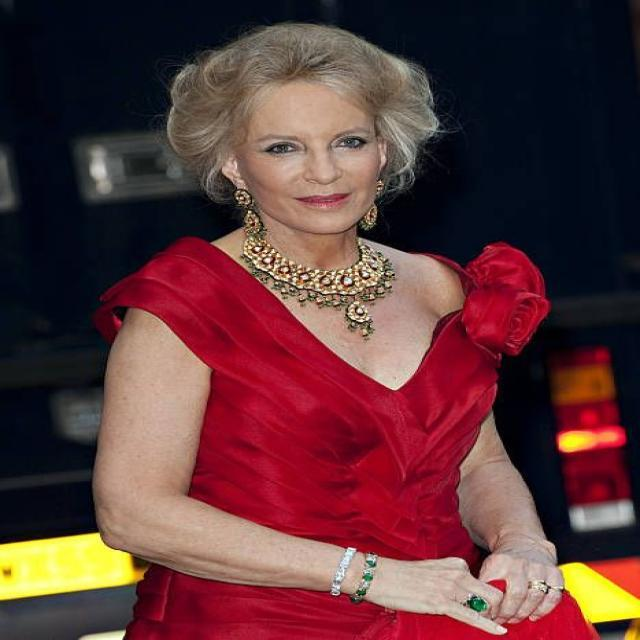Earring: (354, 172, 397, 242), (222, 184, 266, 243)
